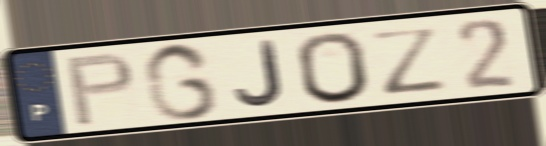2: (456, 16, 518, 93)
G: (141, 39, 222, 123)
J: (232, 37, 288, 110)
O: (293, 29, 374, 107)
P: (62, 49, 138, 129)
Z: (367, 23, 450, 97)
